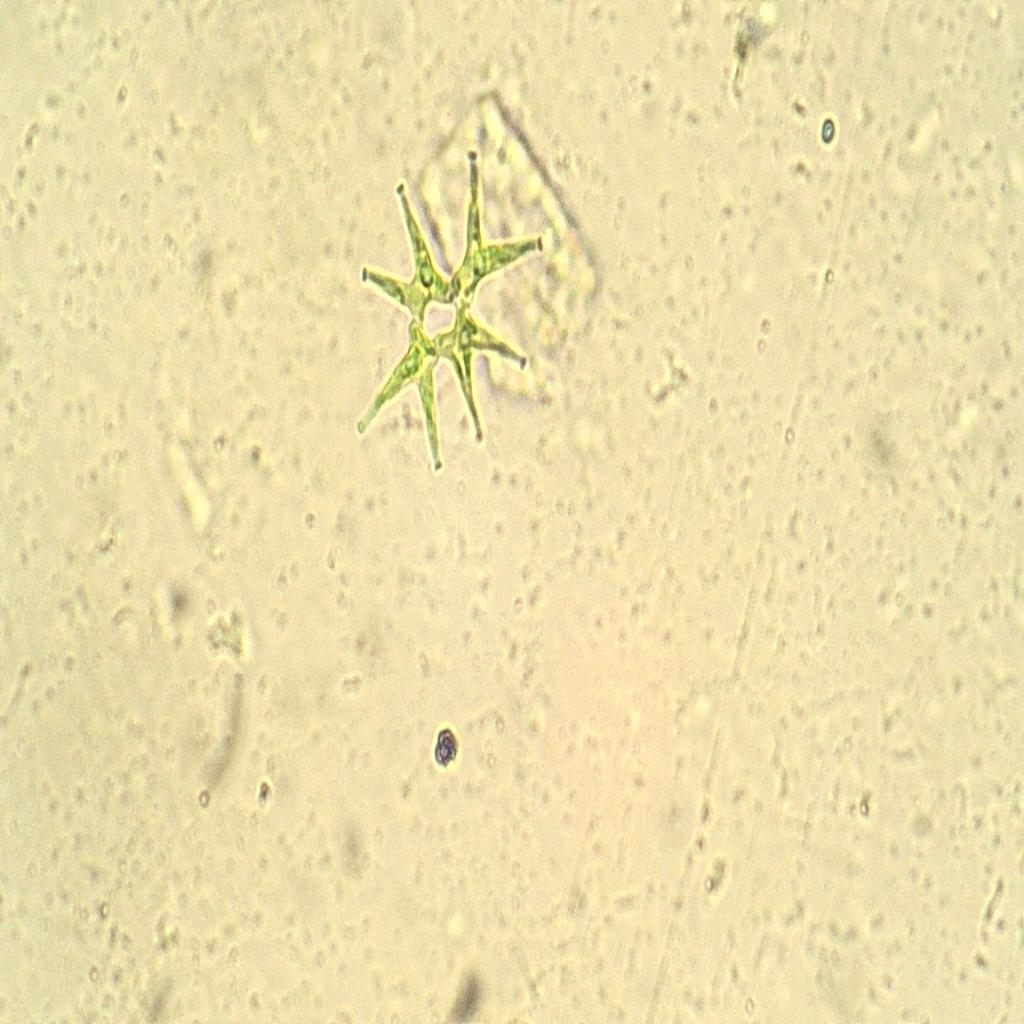Pediastrum_75FI: (346, 134, 550, 501)
